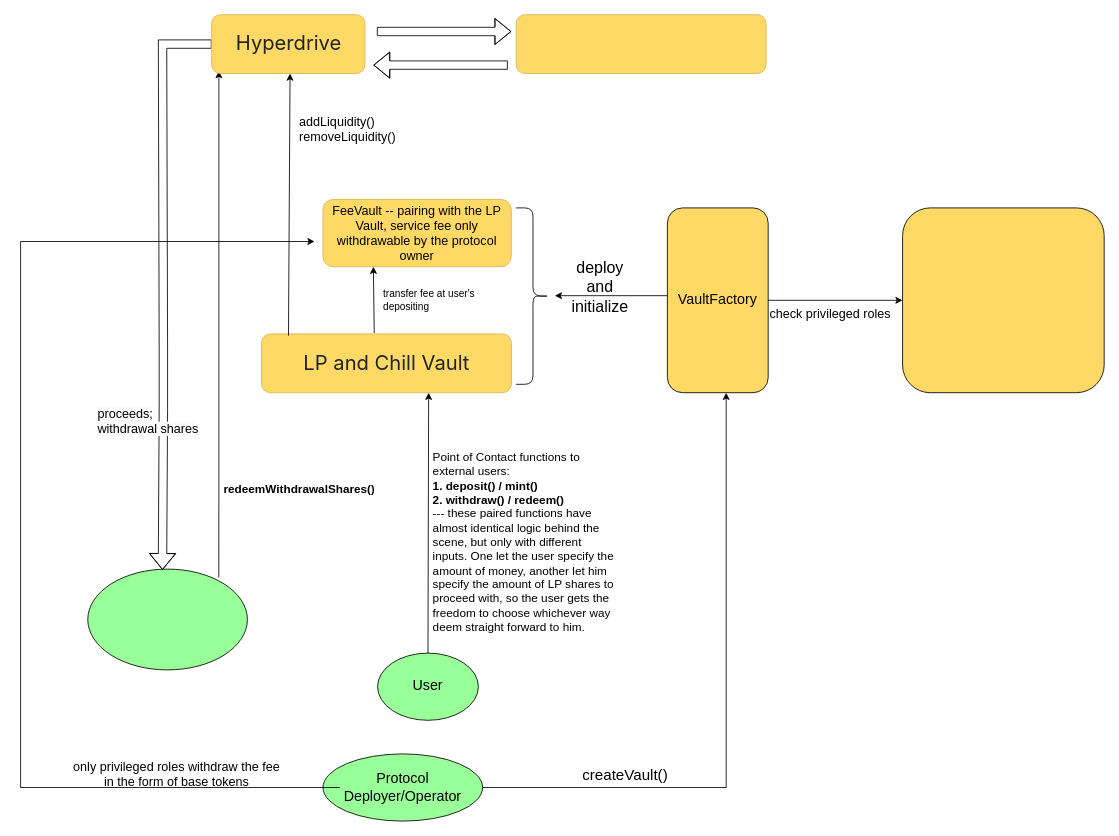
The diagram is 1119 pixels wide and 836 high, and some of its shapes have lost their labels. Here are the shapes that lost their labels. From the top down, the centre of each, then its label:
At (640,44): "External Yield Source, like AAVE, Lido....etc.".
At (1003,300): "ServiceConfigureation".
At (167,619): "User specified destination -- could be the same addr as User, or not".
